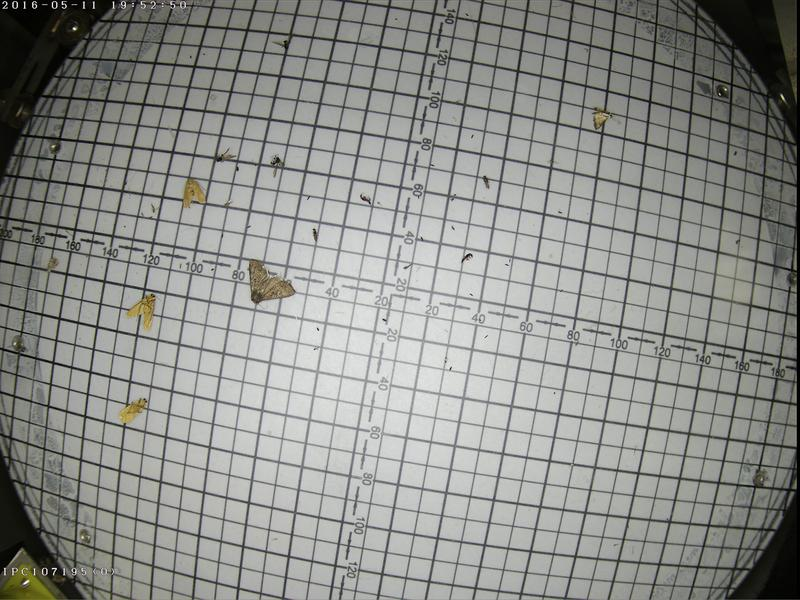Rice Leaf Roller: (587, 104, 613, 131)
Spodoptera cabbage: (245, 256, 296, 308)
